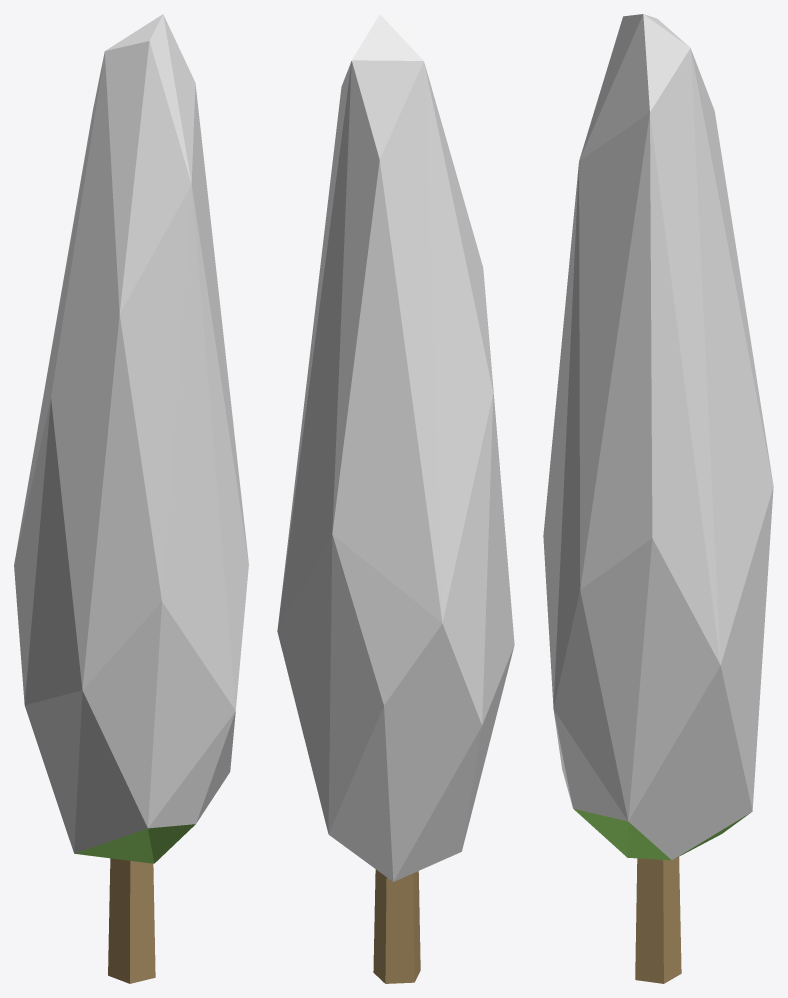
Rendered from Thuja_Tree_m_Snow_04_LOD.fbx.
3 renders of one model, left to right at view 1: azimuth 30°, elevation 25°; view 2: azimuth 150°, elevation 25°; view 3: azimuth 270°, elevation 25°, orthographic. The views are drawn at different scales.
Visible parts, largest first — view 1: Thuja_Tree_m_Snow_04_LOD0; view 2: Thuja_Tree_m_Snow_04_LOD0; view 3: Thuja_Tree_m_Snow_04_LOD0.
Boxes of the visible parts, bbox=[...] form: Thuja_Tree_m_Snow_04_LOD0: bbox=[14, 14, 248, 983]; Thuja_Tree_m_Snow_04_LOD0: bbox=[277, 14, 514, 983]; Thuja_Tree_m_Snow_04_LOD0: bbox=[543, 14, 773, 983].
Size of what is drawn, in the model's own units: 105 by 495 by 106.
